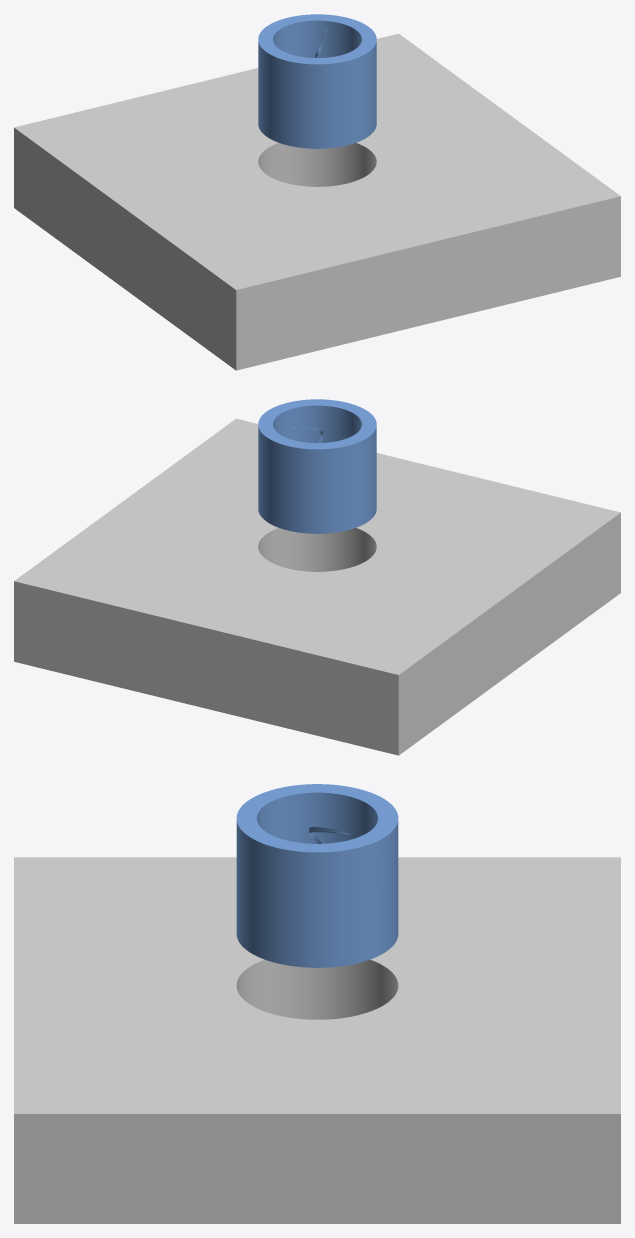
The model's file is vida_plaka_montaj.gltf.
3 views of the same model, one above another, from view 1: azimuth 30°, elevation 25°; view 2: azimuth 150°, elevation 25°; view 3: azimuth 270°, elevation 25° (orthographic). The views are drawn at different scales.
Parts seen in each view (by area): view 1: plaka_part, vida_part; view 2: plaka_part, vida_part; view 3: plaka_part, vida_part.
Part boxes in pixels (<box>): plaka_part: <box>14,33,620,370</box>; vida_part: <box>258,14,376,148</box>; plaka_part: <box>14,418,620,755</box>; vida_part: <box>258,399,376,533</box>; plaka_part: <box>14,857,620,1223</box>; vida_part: <box>236,784,398,967</box>.
Bounding box in the file's own units: 30 × 15.13 × 30.
